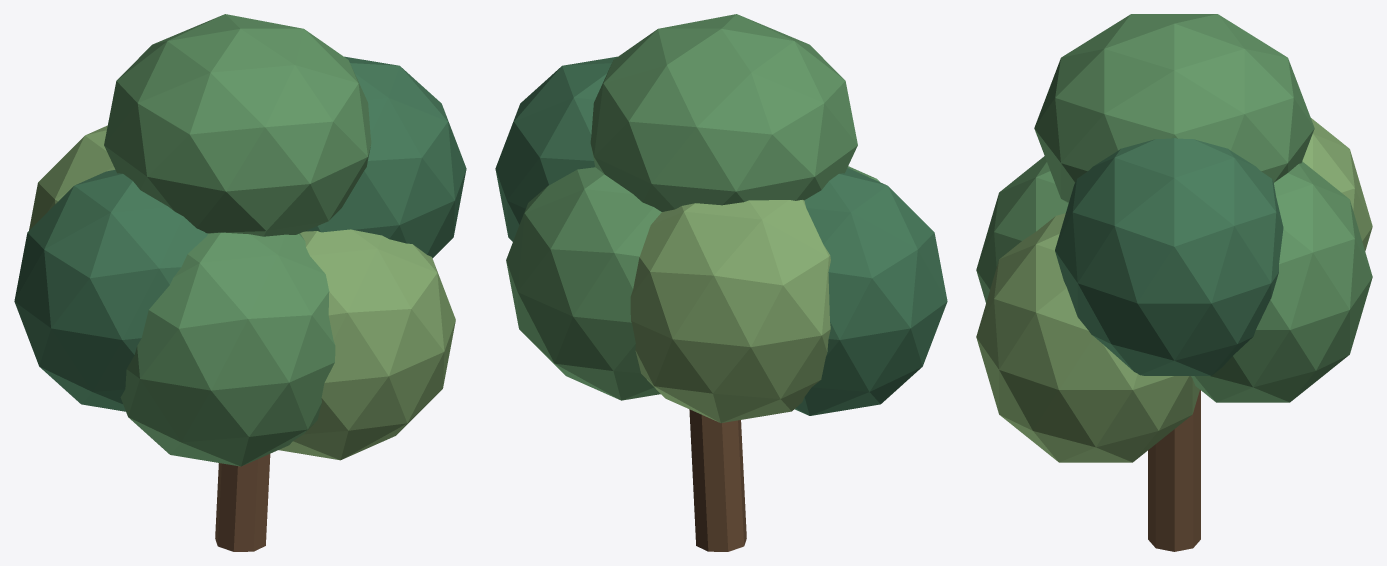
Rendered from leafy_3.fbx.
The picture shows the model from 3 angles, left to right: view 1: azimuth 30°, elevation 25°; view 2: azimuth 150°, elevation 25°; view 3: azimuth 270°, elevation 25°; orthographic projection.
Visible parts, largest first — view 1: leafy_3; view 2: leafy_3; view 3: leafy_3.
Part boxes in pixels (<box>): leafy_3: <box>14,14,466,551</box>; leafy_3: <box>495,14,947,551</box>; leafy_3: <box>976,14,1372,551</box>.
Bounding box in the file's own units: 584 × 692 × 481.
